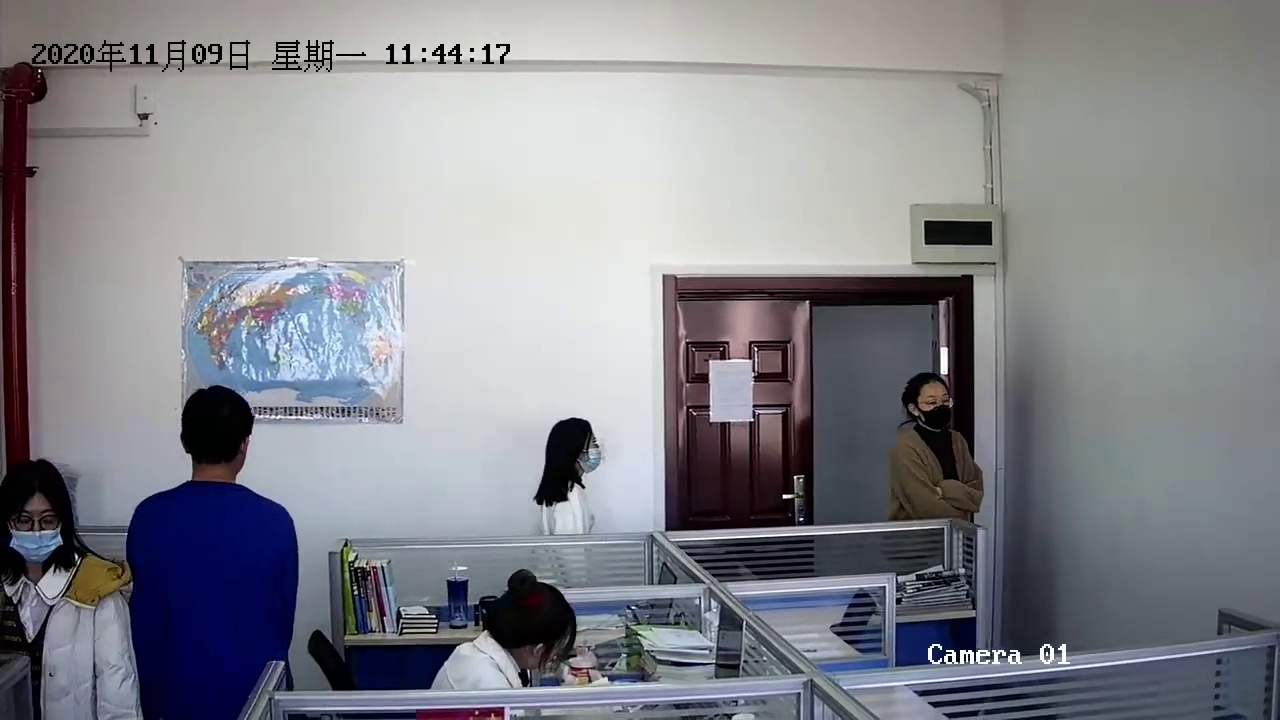mask: (10, 459, 64, 571), (554, 417, 606, 493), (901, 374, 956, 436)
